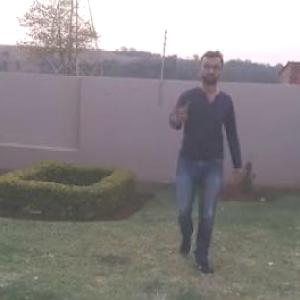takeoff-hand: (165, 91, 194, 129)
